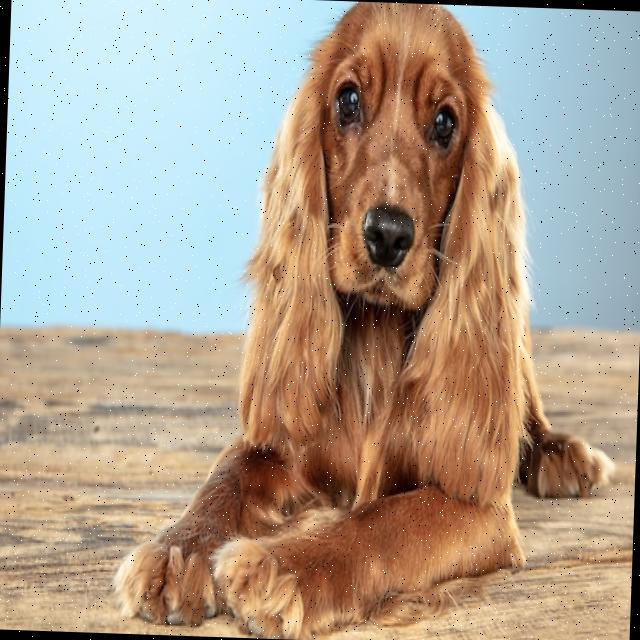Dog: (108, 0, 630, 640)
